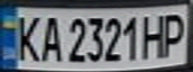1: (121, 12, 145, 62)
2: (63, 12, 87, 63), (103, 14, 124, 63)
3: (84, 13, 106, 64)
A: (36, 12, 63, 63)
H: (139, 11, 172, 60)
K: (9, 11, 45, 63)
P: (157, 9, 193, 60)
